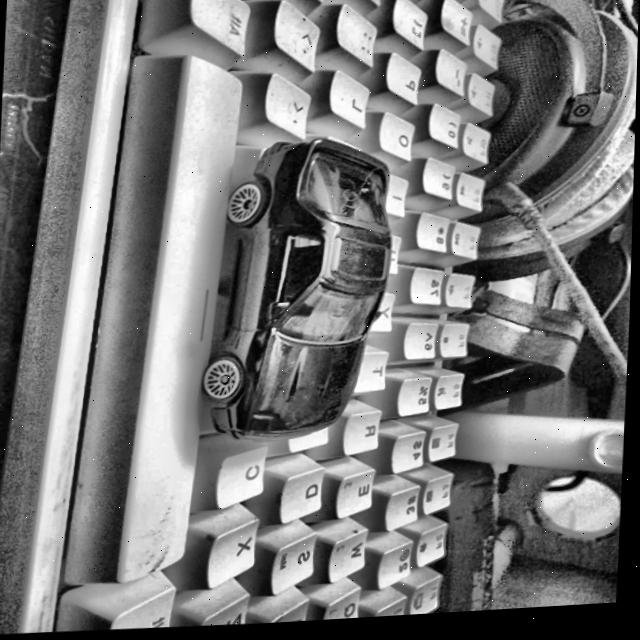car: (200, 136, 398, 452)
